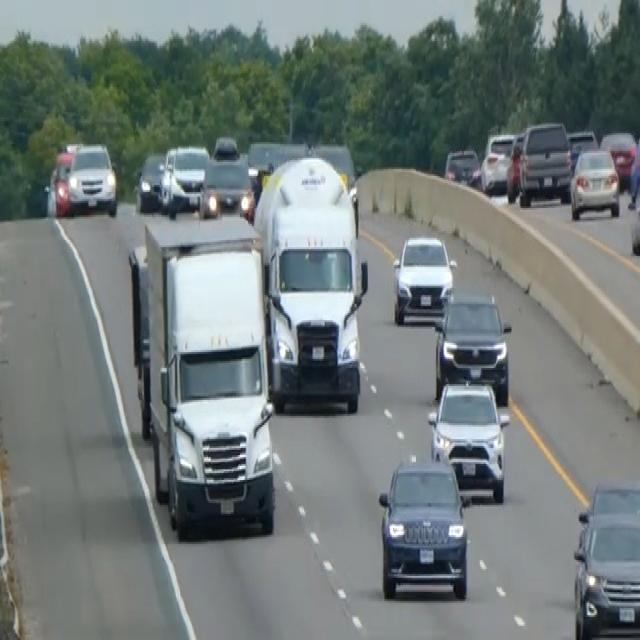car: (571, 480, 639, 638), (427, 377, 510, 503), (433, 290, 512, 402), (391, 231, 456, 325), (127, 242, 152, 439), (198, 134, 254, 220), (517, 119, 572, 206), (569, 146, 620, 220), (67, 141, 117, 215), (161, 142, 209, 217), (480, 130, 516, 194), (599, 128, 637, 187), (44, 147, 73, 217), (135, 150, 166, 212), (444, 144, 481, 187), (566, 126, 598, 172), (504, 131, 525, 201), (628, 132, 639, 206)
jeep: (376, 453, 471, 601)
lorry: (129, 213, 276, 539), (254, 153, 369, 412)
